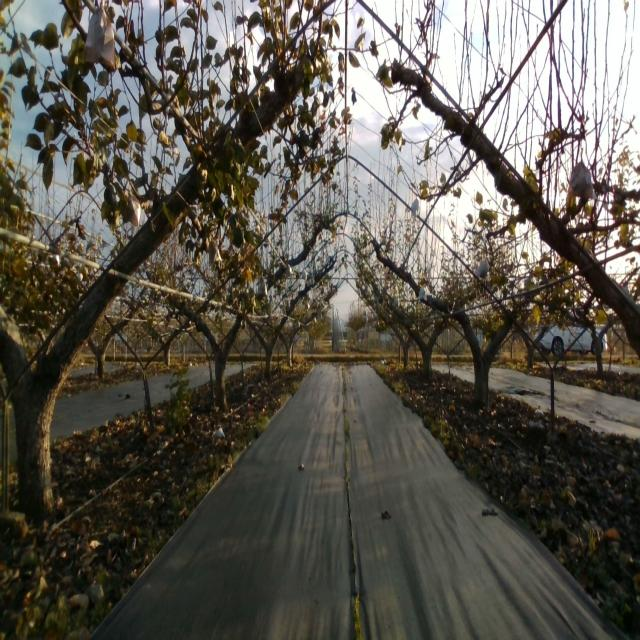pearbags: (83, 0, 115, 72), (568, 152, 593, 200), (126, 188, 142, 228), (475, 256, 489, 279)
